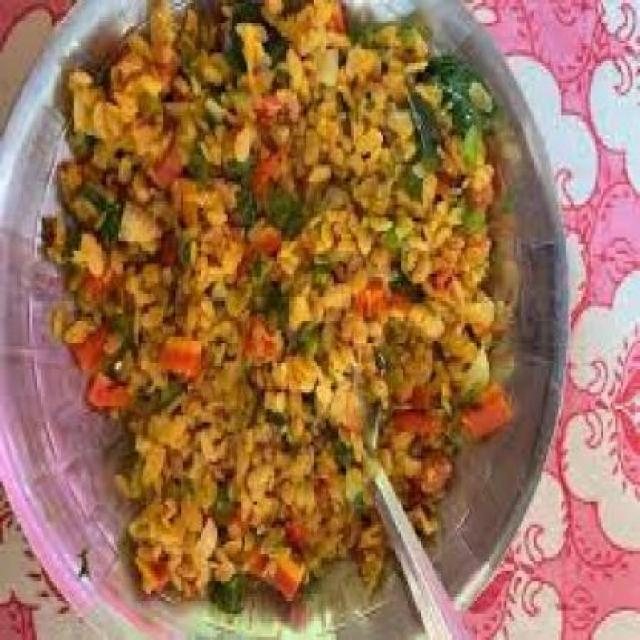poha: (42, 0, 510, 611)
